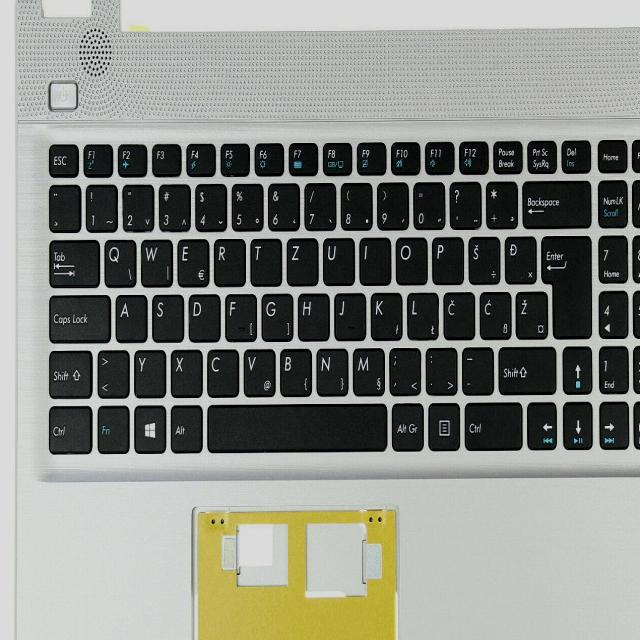0: (411, 180, 444, 228)
1: (85, 182, 117, 231)
2: (121, 182, 153, 230)
3: (158, 182, 190, 230)
4: (193, 180, 226, 229)
5: (230, 180, 262, 229)
6: (267, 180, 298, 229)
7: (304, 181, 335, 229)
8: (339, 181, 371, 229)
9: (376, 180, 408, 228)
a: (114, 292, 146, 340)
alt-left: (168, 404, 202, 452)
altgr-right: (390, 401, 422, 449)
b: (278, 347, 311, 396)
c: (206, 348, 239, 397)
comma: (388, 347, 420, 396)
d: (188, 292, 220, 341)
del: (521, 176, 590, 226)
e: (175, 237, 208, 285)
enter: (540, 231, 590, 336)
f: (225, 292, 256, 341)
g: (260, 290, 291, 340)
h: (297, 291, 329, 339)
i: (358, 236, 390, 284)
j: (333, 290, 365, 339)
k: (370, 289, 402, 339)
keyboard: (35, 114, 640, 477)
l: (406, 290, 438, 339)
less: (96, 348, 129, 397)
m: (351, 344, 383, 394)
minus: (460, 345, 493, 394)
n: (314, 345, 346, 394)
o: (394, 234, 427, 284)
p: (431, 235, 463, 284)
plus: (485, 179, 517, 228)
point: (425, 345, 457, 394)
q: (102, 235, 135, 285)
r: (213, 237, 246, 286)
s: (151, 292, 183, 341)
shift-left: (45, 346, 91, 398)
shift-lock: (46, 291, 110, 341)
shift-right: (497, 343, 556, 393)
space: (206, 401, 386, 450)
strg-left: (45, 403, 91, 453)
strg-right: (461, 400, 522, 449)
t: (250, 236, 282, 284)
tab: (47, 236, 99, 286)
u: (322, 236, 354, 285)
v: (242, 347, 275, 396)
w: (141, 238, 172, 288)
x: (169, 347, 202, 397)
y: (133, 348, 166, 397)
z: (286, 236, 318, 285)
